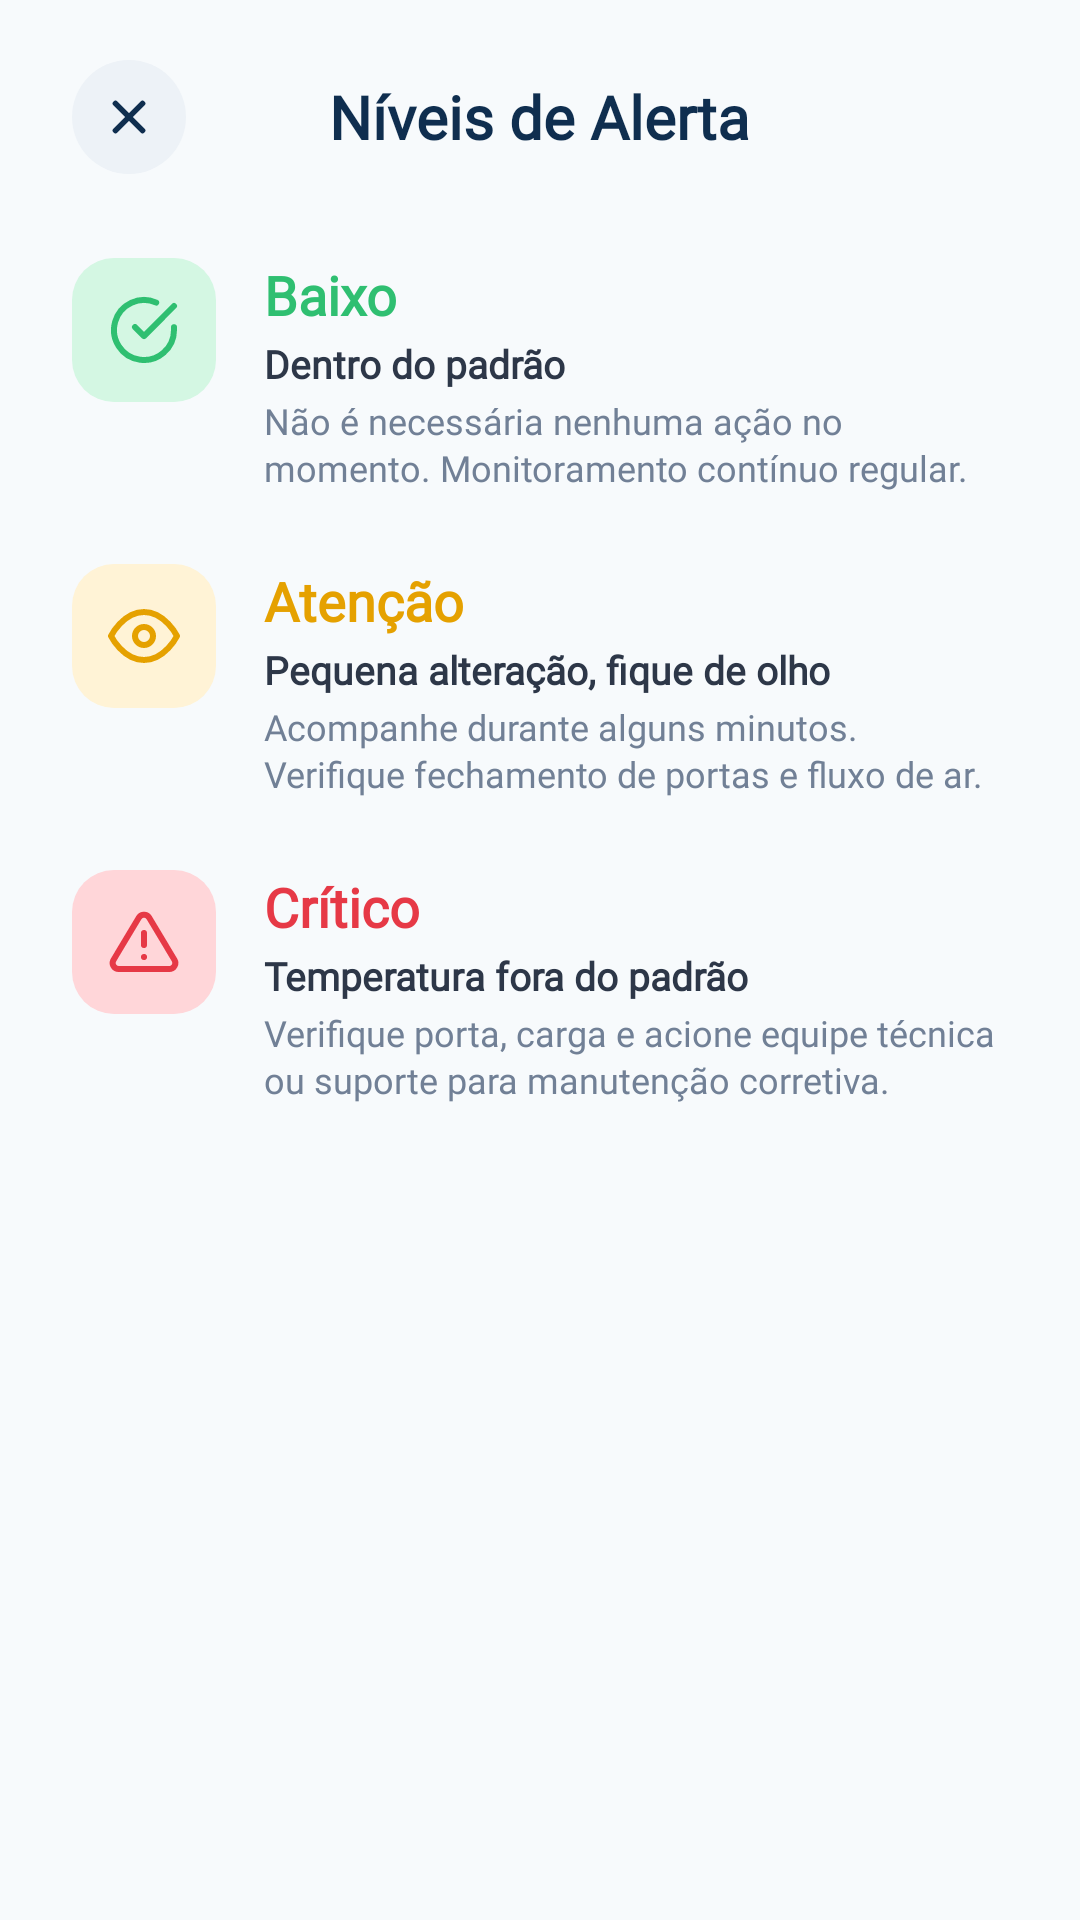

Named icons in this screenshot (1080×1920) and their centers, [x,y]:
Fechar: [129,117]
